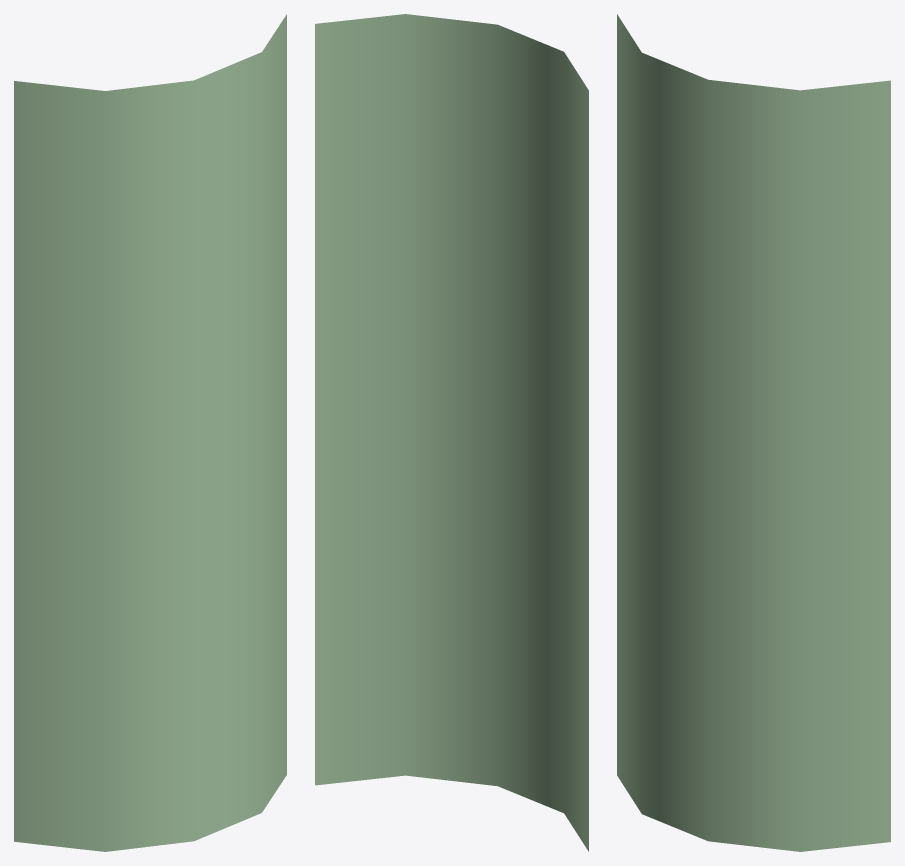
File: Esc_capsulas_Glass.fbx
3 views of the same model, side by side, from view 1: azimuth 30°, elevation 25°; view 2: azimuth 150°, elevation 25°; view 3: azimuth 330°, elevation 25° (orthographic).
Parts seen in each view (by area): view 1: Capsula; view 2: Capsula; view 3: Capsula.
Part boxes in pixels (<box>): Capsula: <box>14,14,286,851</box>; Capsula: <box>315,14,588,851</box>; Capsula: <box>617,14,890,851</box>.
Bounding box in the file's own units: 96.53 × 257 × 27.44.
